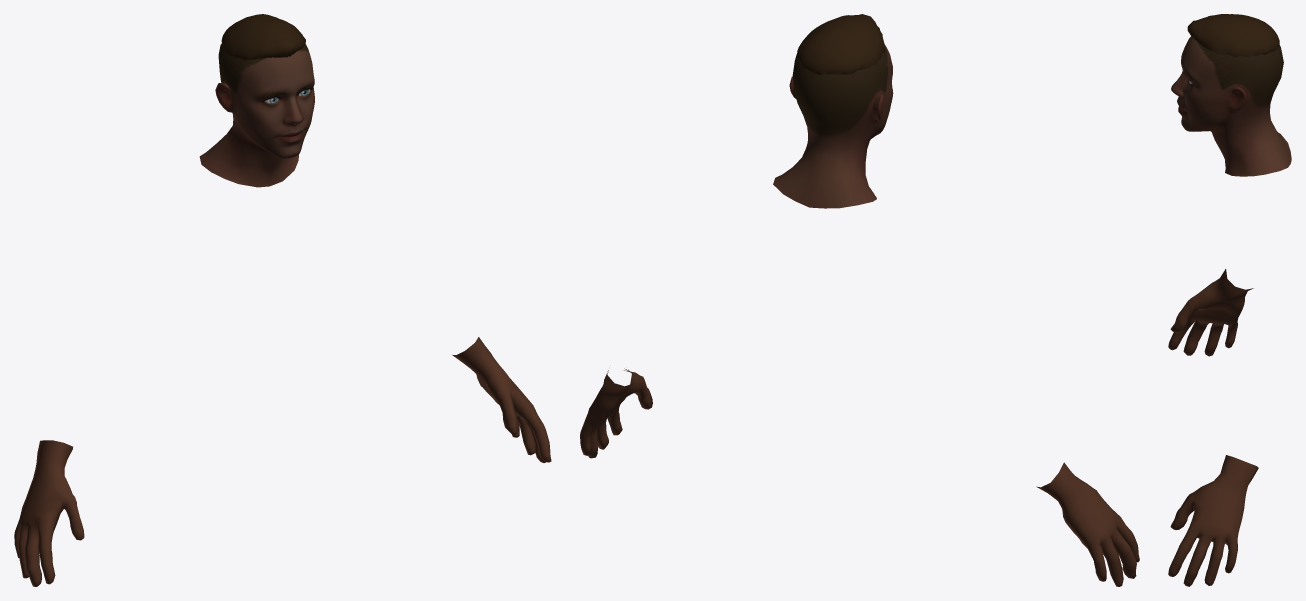
Rendered from headbody4.glb.
3 renders of one model, left to right at view 1: azimuth 30°, elevation 25°; view 2: azimuth 150°, elevation 25°; view 3: azimuth 270°, elevation 25°, orthographic. The views are drawn at different scales.
Visible parts, largest first — view 1: Wolf3D_Head, Wolf3D_Body, Wolf3D_Hair; view 2: Wolf3D_Head, Wolf3D_Body, Wolf3D_Hair; view 3: Wolf3D_Head, Wolf3D_Body, Wolf3D_Hair.
Part boxes in pixels (box(x1,y1,x2,y2)): Wolf3D_Head: box(199, 43, 314, 187); Wolf3D_Body: box(14, 337, 551, 586); Wolf3D_Hair: box(221, 14, 305, 60); Wolf3D_Head: box(773, 44, 893, 208); Wolf3D_Body: box(580, 368, 1139, 586); Wolf3D_Hair: box(796, 14, 884, 74); Wolf3D_Head: box(1171, 36, 1291, 176); Wolf3D_Body: box(1168, 269, 1258, 586); Wolf3D_Hair: box(1187, 14, 1279, 57).
Size of the model in its own units: 1.06 by 0.9511 by 0.2352.
Materials: 5 (5 with a texture image).
